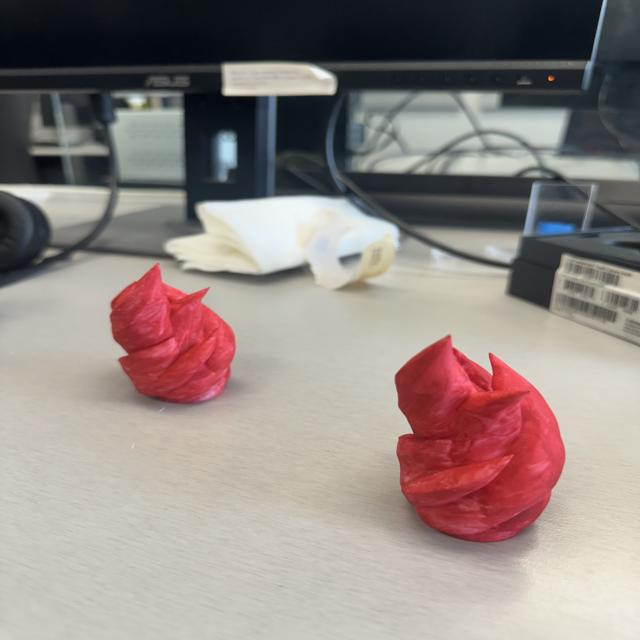fire: (392, 333, 568, 545), (108, 262, 240, 405)
